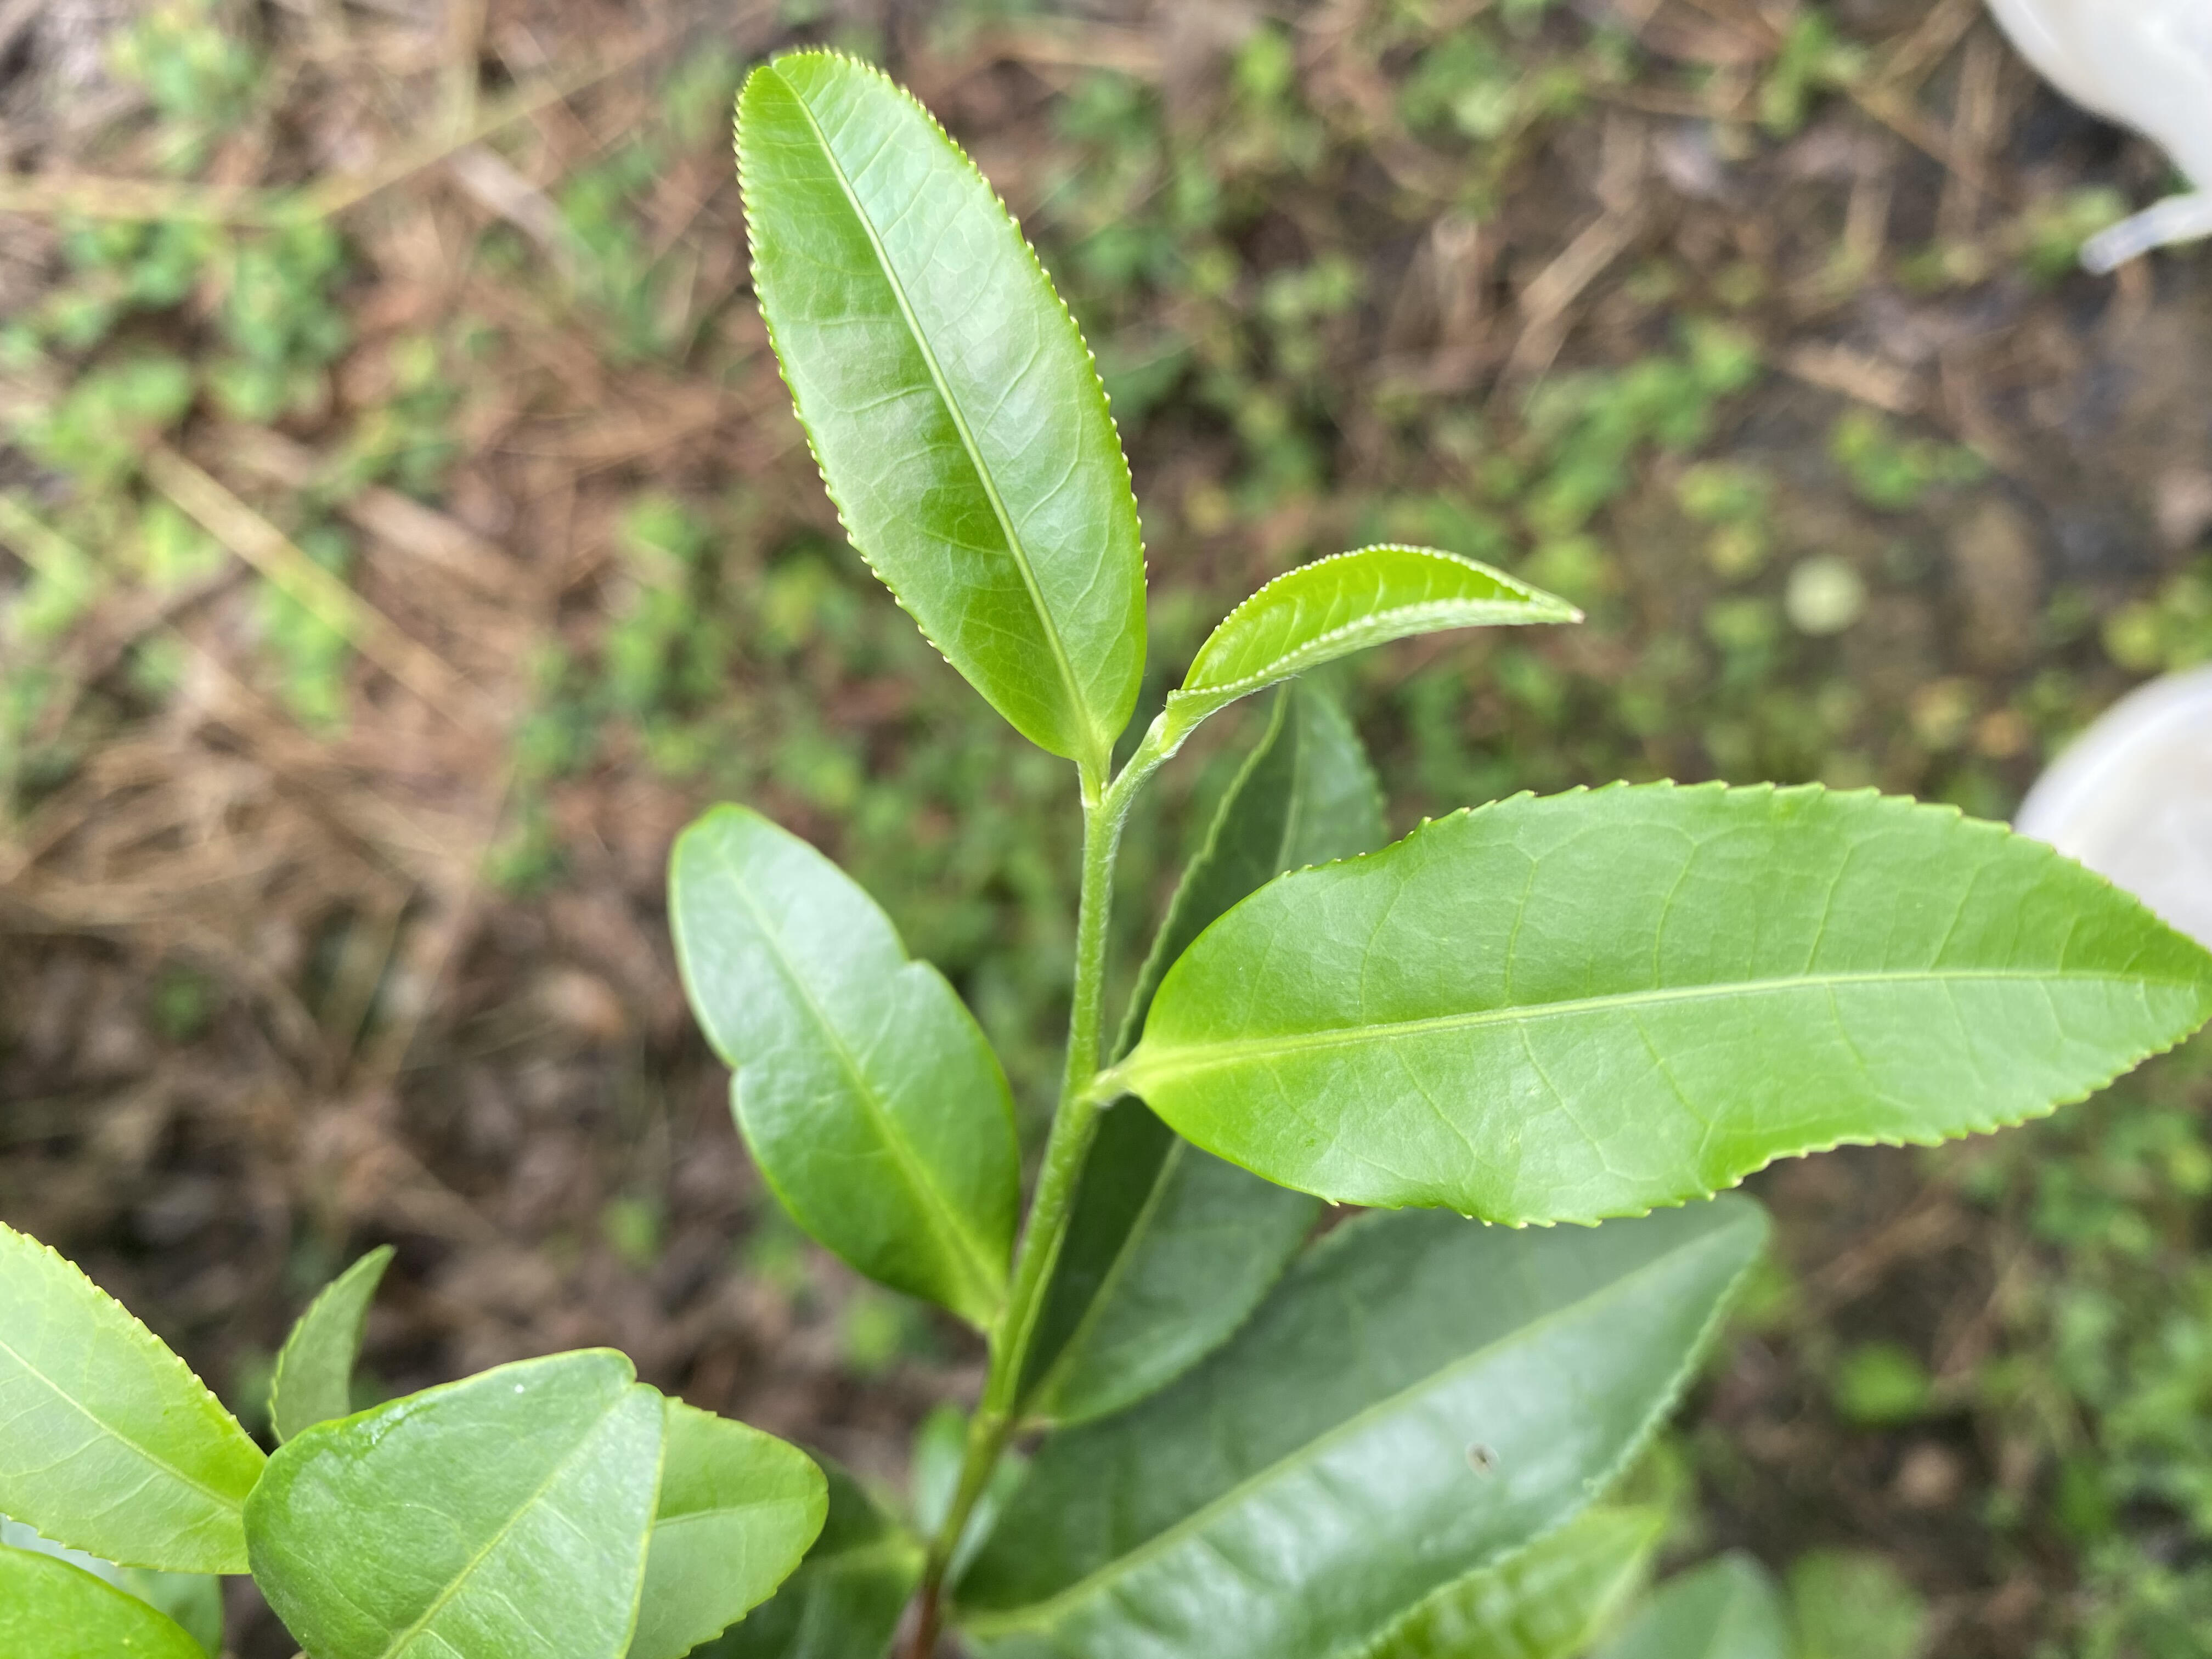healthy: (1130, 775, 2210, 1232), (726, 49, 1151, 760), (664, 800, 1019, 1314), (246, 1347, 672, 1656), (1163, 540, 1587, 746)
